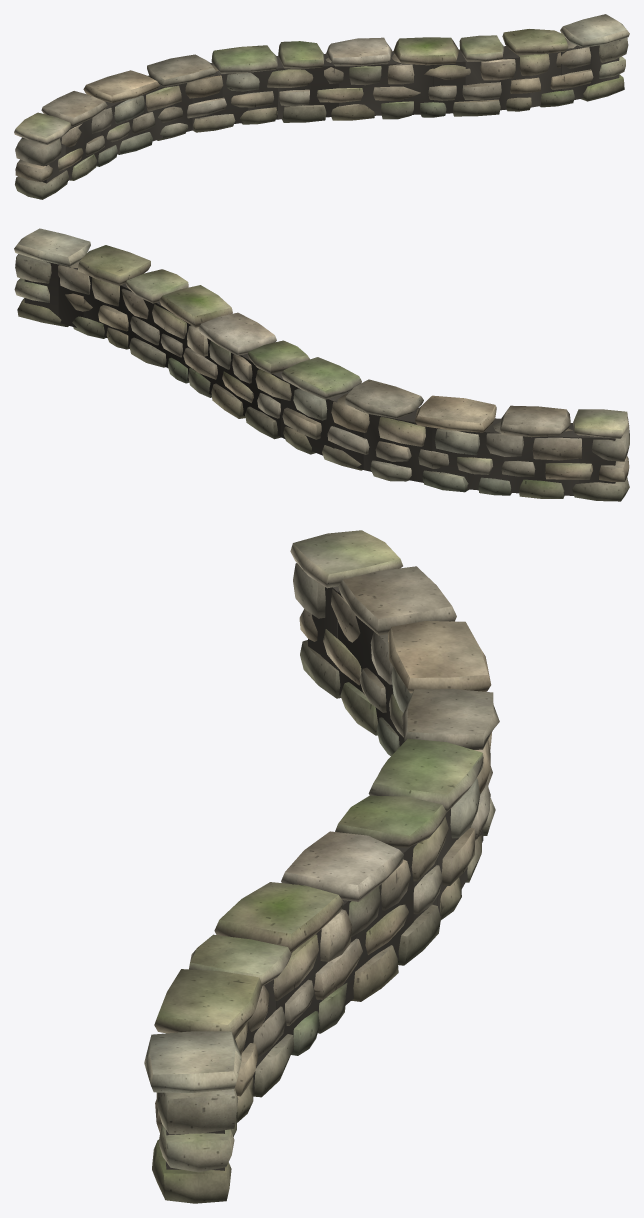
File: stone_wall_long_lod1.gltf
3 views of the same model, one above another, from view 1: azimuth 30°, elevation 25°; view 2: azimuth 150°, elevation 25°; view 3: azimuth 270°, elevation 25° (orthographic). The views are drawn at different scales.
Parts seen in each view (by area): view 1: Wall, Core; view 2: Wall, Core; view 3: Wall, Core.
Boxes of the visible parts, x1=… form: Wall: x1=14, y1=14, x2=629, y2=199; Core: x1=22, y1=45, x2=619, y2=183; Wall: x1=14, y1=228, x2=629, y2=501; Core: x1=24, y1=261, x2=615, y2=495; Wall: x1=144, y1=530, x2=499, y2=1203; Core: x1=166, y1=586, x2=483, y2=1170.
Size of the model in its own units: 7.06 by 0.7999 by 1.92.
2 materials, 1 textured.
